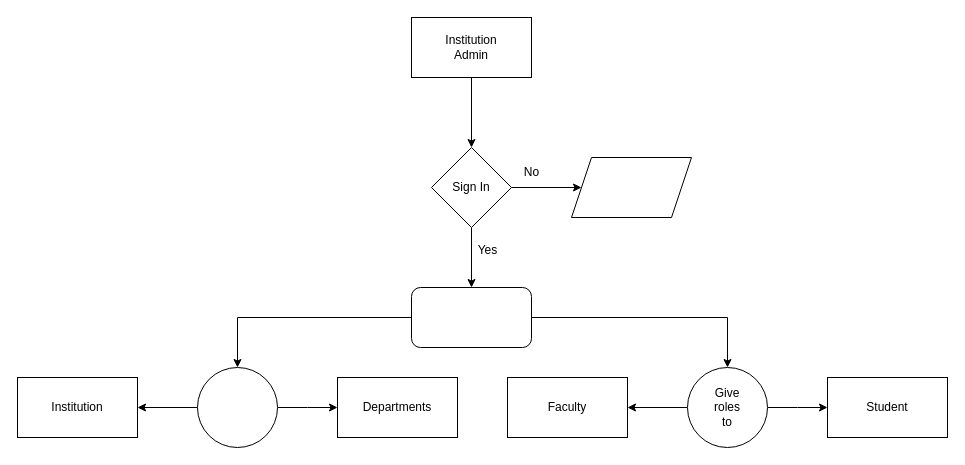
Image size: 965x465. Some labels were removed from this diagram. The centre of each missing label's shape, as x and y in pixels:
Dashboard: point 471,317
Invalid Credentials: point 631,187
Link: point 237,407
